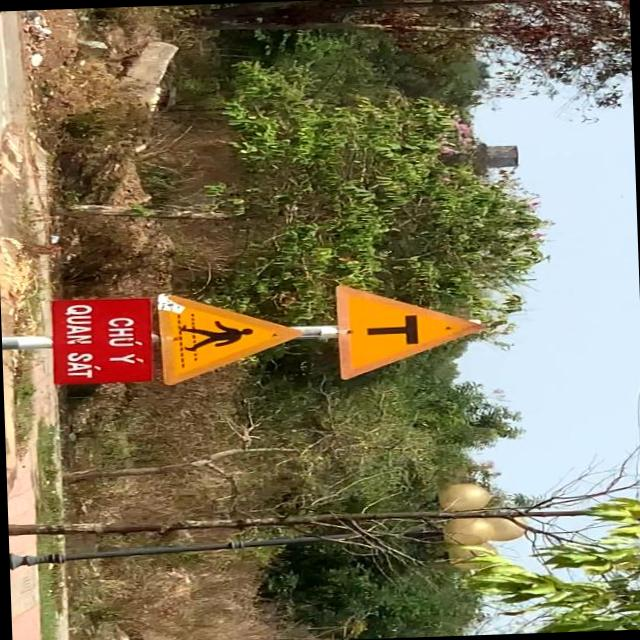W-205d: (332, 277, 493, 380)
W-224: (155, 287, 308, 386)
